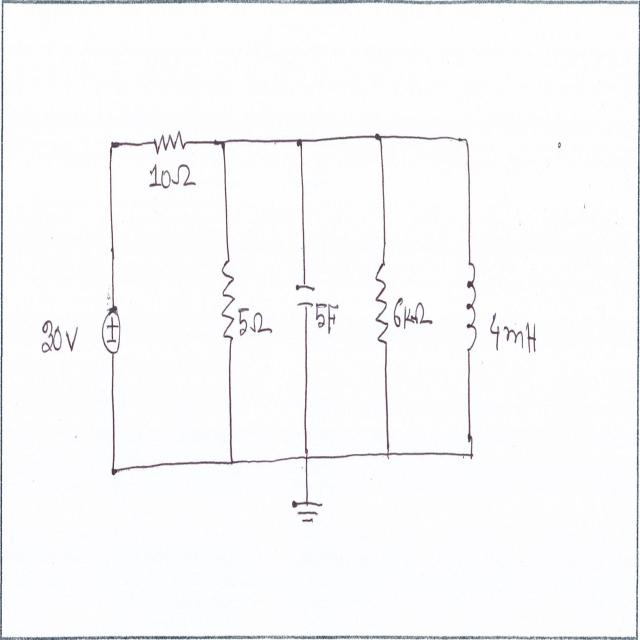capacitor: (293, 275, 319, 316)
ground: (291, 495, 330, 529)
inductor: (465, 258, 481, 359)
resistor: (217, 253, 240, 348), (371, 259, 392, 351), (153, 122, 184, 160)
voltage_source: (98, 309, 124, 361)
